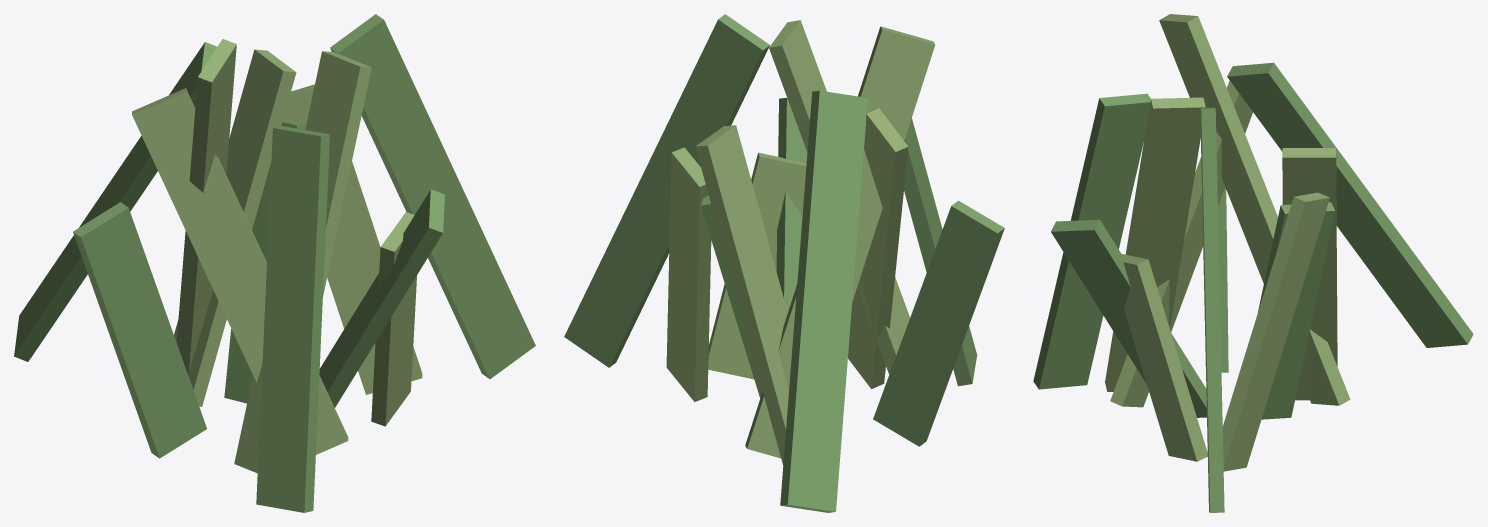
File: ext_grass_tuft.glb
3 views of the same model, side by side, from view 1: azimuth 30°, elevation 25°; view 2: azimuth 150°, elevation 25°; view 3: azimuth 270°, elevation 25° (orthographic). The views are drawn at different scales.
Parts seen in each view (by area): view 1: Canopy; view 2: Canopy; view 3: Canopy.
Boxes of the visible parts, <box> form: Canopy: <box>14,14,535,512</box>; Canopy: <box>564,14,1004,512</box>; Canopy: <box>1033,14,1473,512</box>.
Size of the model in its own units: 0.4015 by 0.3493 by 0.3696.
